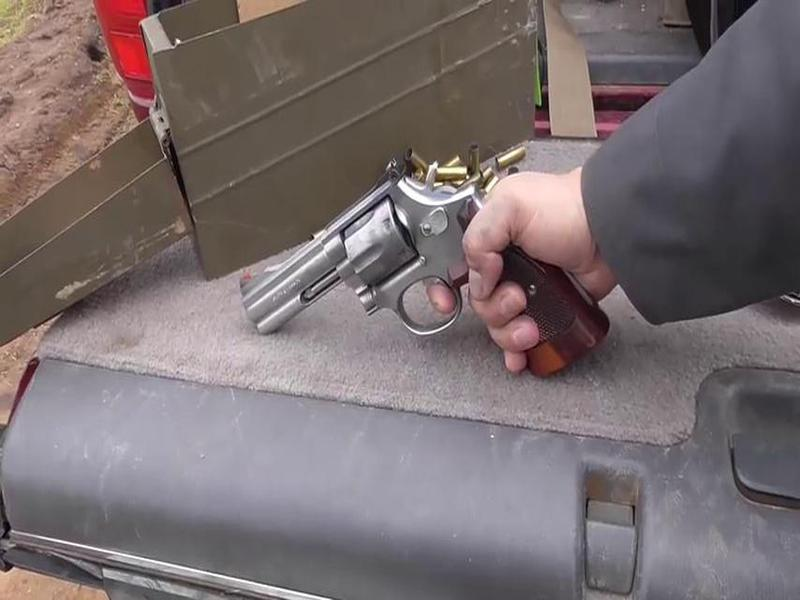Revolver: (239, 154, 512, 374)
